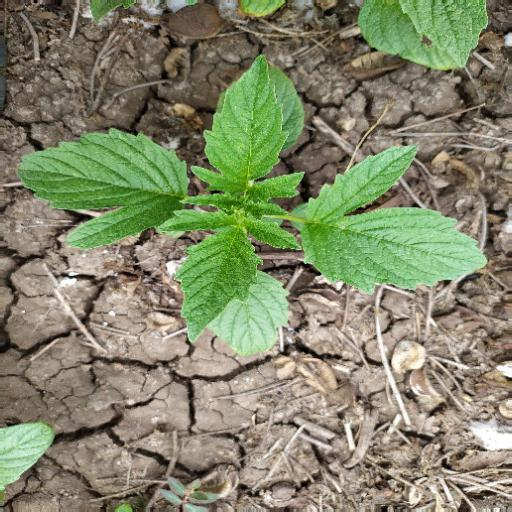crop: (22, 61, 488, 353)
